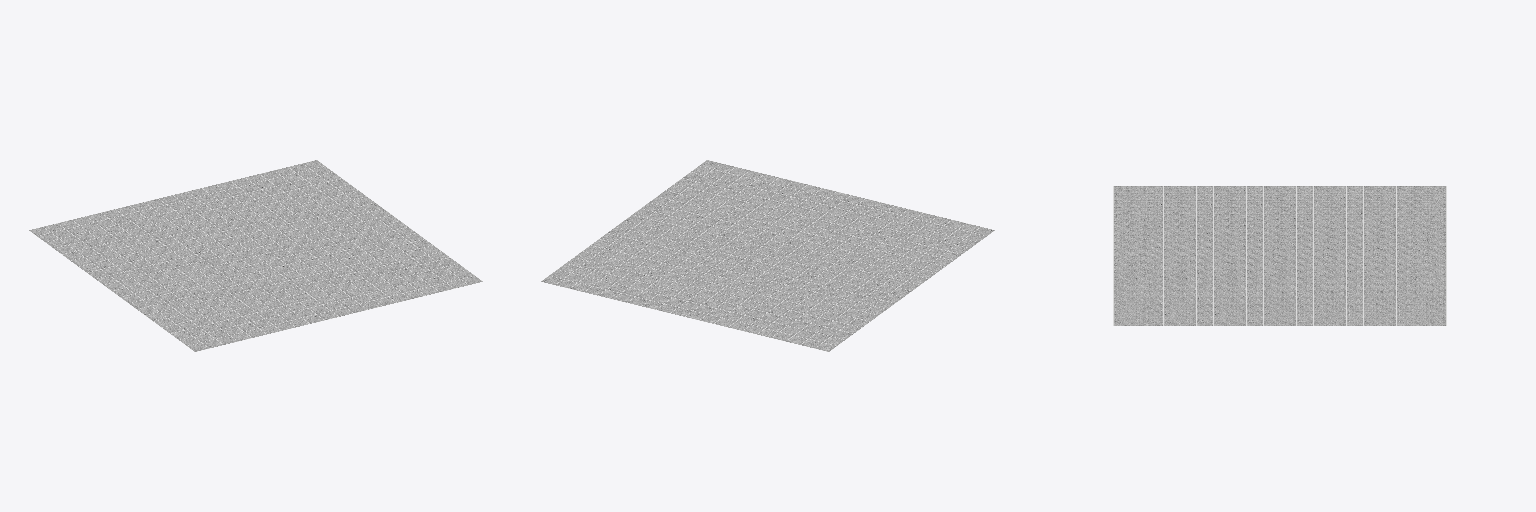
The picture shows the model from 3 angles: view 1: azimuth 30°, elevation 25°; view 2: azimuth 150°, elevation 25°; view 3: azimuth 270°, elevation 25°; orthographic projection.
Parts seen in each view (by area): view 1: Plane.001; view 2: Plane.001; view 3: Plane.001.
Boxes of the visible parts, x1=… form: Plane.001: x1=29, y1=160, x2=482, y2=351; Plane.001: x1=541, y1=160, x2=994, y2=351; Plane.001: x1=1113, y1=186, x2=1446, y2=325.
Size of the model in its own units: 40 by 0 by 40.
1 materials, 1 textured.